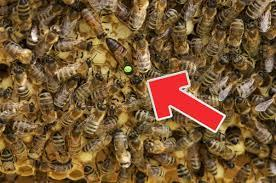Queen-Bee: (108, 28, 145, 90)
worker-bee: (52, 56, 96, 85), (32, 79, 59, 125), (127, 66, 155, 108), (241, 112, 276, 144), (199, 56, 230, 92), (83, 95, 105, 138), (112, 126, 133, 168), (141, 135, 180, 157), (9, 134, 31, 172), (203, 139, 237, 163), (13, 0, 39, 31), (54, 35, 101, 52), (196, 0, 216, 38), (81, 8, 105, 38), (243, 137, 274, 160), (3, 40, 32, 63), (133, 36, 151, 72), (50, 132, 69, 166), (127, 0, 148, 30), (258, 39, 276, 74), (172, 21, 188, 55), (258, 92, 276, 122), (246, 0, 270, 19), (227, 19, 243, 47), (81, 165, 98, 183)
